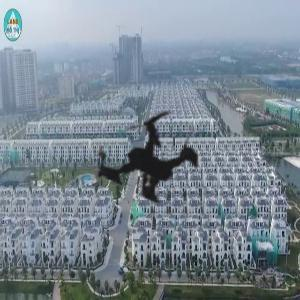drone: (5, 14, 290, 299)
